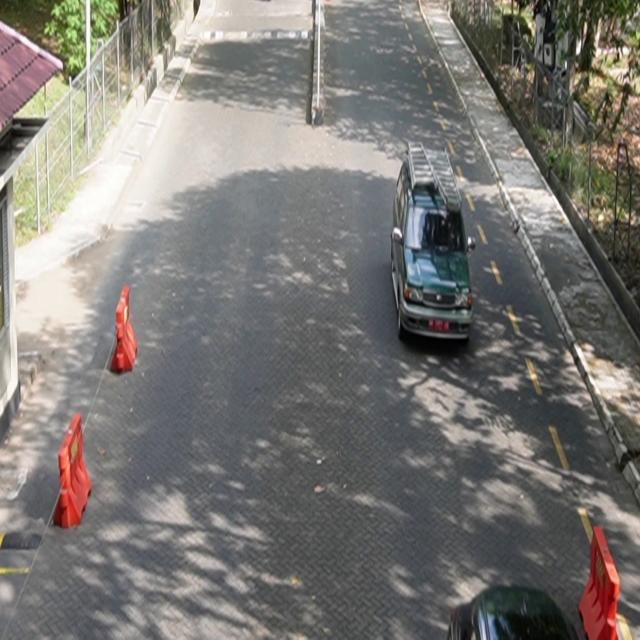car: (391, 141, 477, 345)
